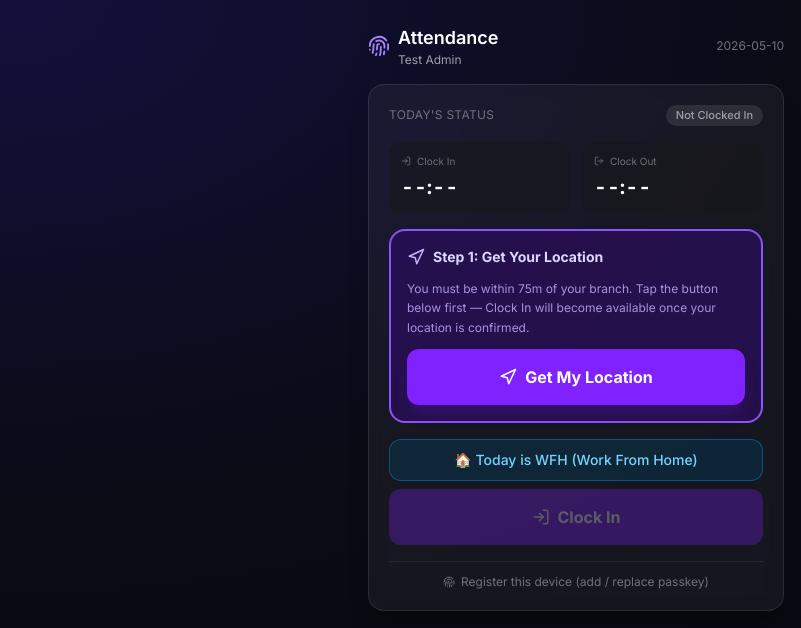
Test: AttendancePage — GPS acquisition success › Clock In button enabled after successful GPS acquisition
This screenshot has width=801, height=628.
Click the button "Get My Location". click: (576, 377)
box: x1=407 y1=349 x2=745 y2=405
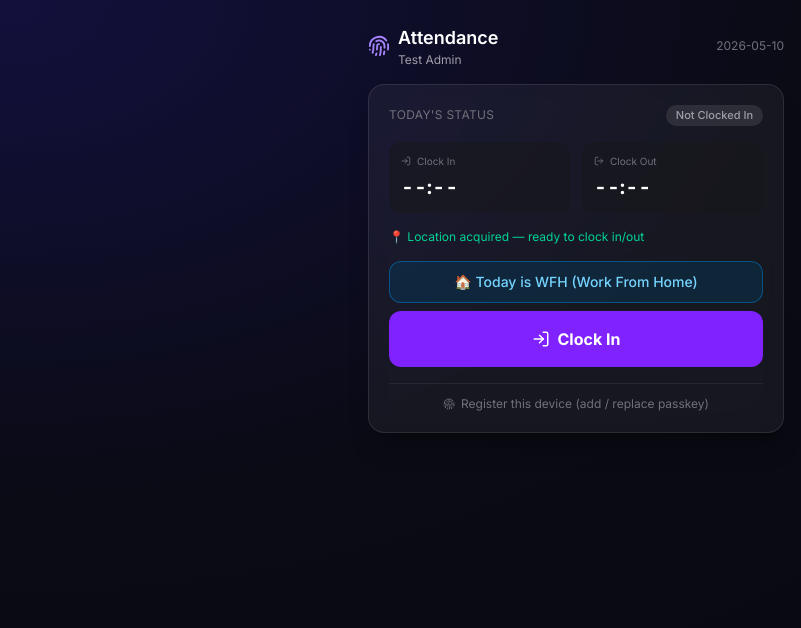
Expected: the text "📍 Location acquired — ready to clock in/out" is shown, x1=389 y1=228 x2=644 y2=244
Expected: the button "Clock In" is enabled, x1=389 y1=310 x2=763 y2=366
